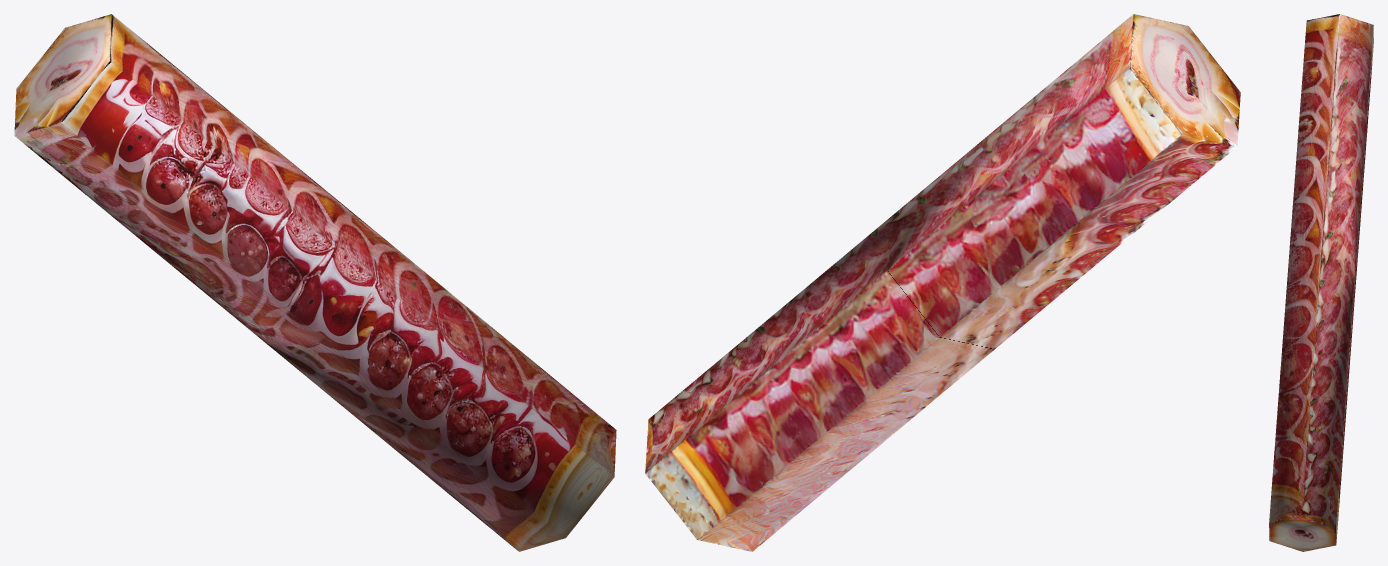
Rendered from salami1.glb.
3 views of the same model, side by side, from view 1: azimuth 30°, elevation 25°; view 2: azimuth 150°, elevation 25°; view 3: azimuth 270°, elevation 25° (orthographic). The views are drawn at different scales.
Size of the model in its own units: 4.16 by 4.23 by 0.974.
Materials: 1 (1 with a texture image).
